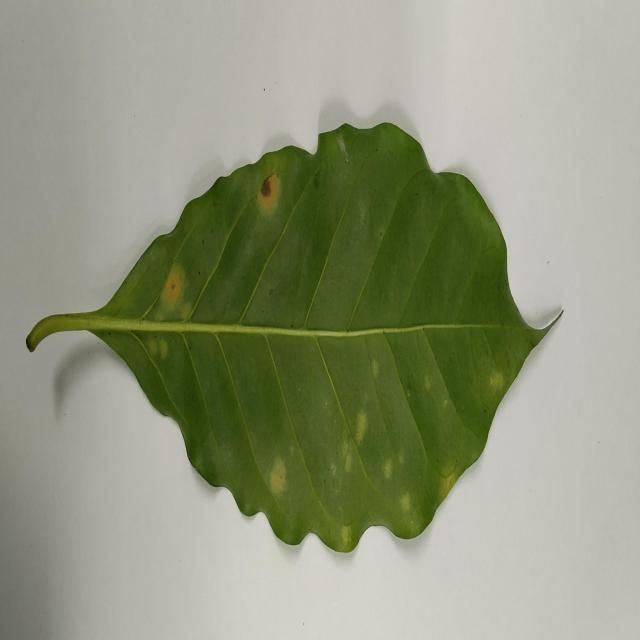Enfermedad-Roya: (24, 121, 563, 555)
